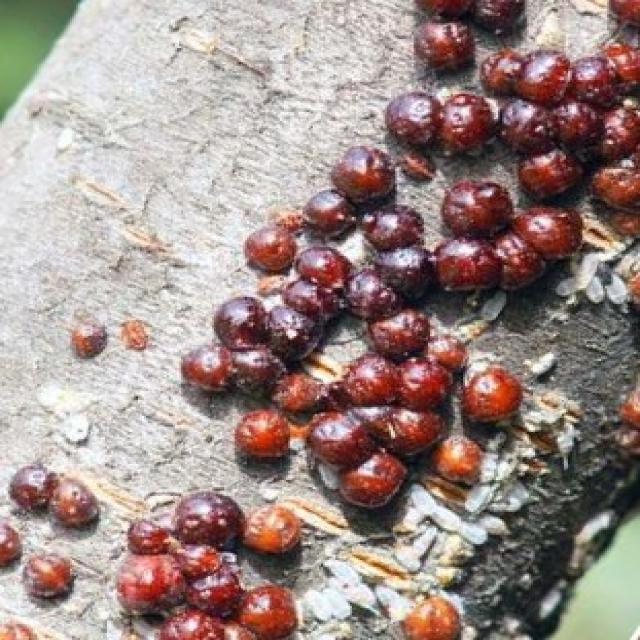Black Scale: (181, 0, 638, 512), (119, 491, 302, 638), (2, 460, 97, 638), (399, 592, 462, 638), (72, 320, 101, 357)
